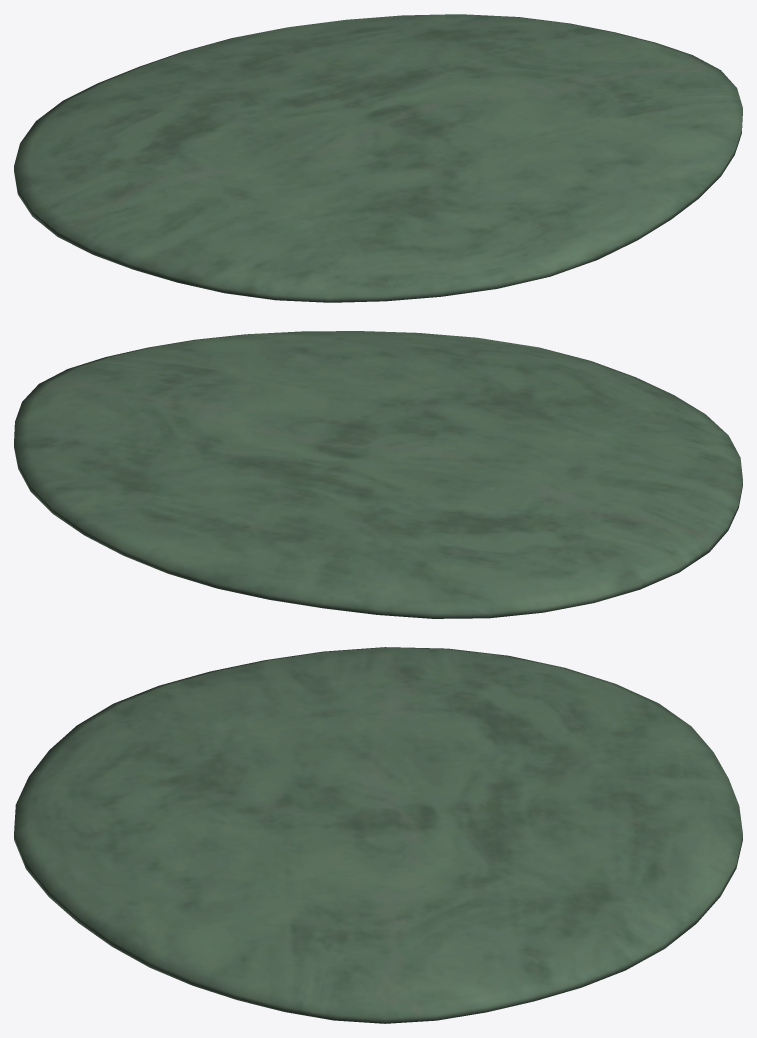
File: jade_river_flat_07.glb
3 renders of one model, top to bottom at view 1: azimuth 30°, elevation 25°; view 2: azimuth 150°, elevation 25°; view 3: azimuth 270°, elevation 25°, orthographic. The views are drawn at different scales.
Visible parts, largest first — view 1: jade_river_flat_07; view 2: jade_river_flat_07; view 3: jade_river_flat_07.
Boxes of the visible parts, x1,y1,x2,y2 form: jade_river_flat_07: (14,14,742,302); jade_river_flat_07: (14,331,742,618); jade_river_flat_07: (14,647,742,1023).
Bounding box in the file's own units: 0.0917 × 0.00677 × 0.0763.
Materials: 1 (1 with a texture image).
